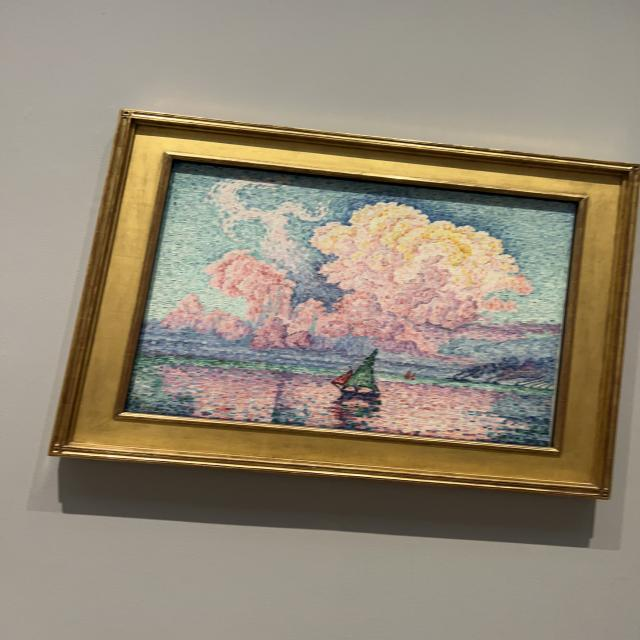sunrise: (129, 164, 572, 443)
